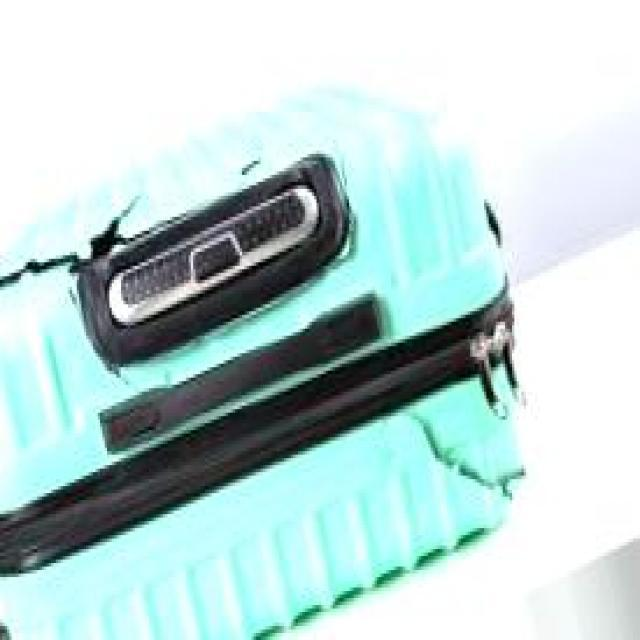Damage-bag: (414, 414, 524, 498), (89, 194, 140, 259), (1, 252, 81, 287), (97, 349, 120, 377), (241, 158, 261, 176)
